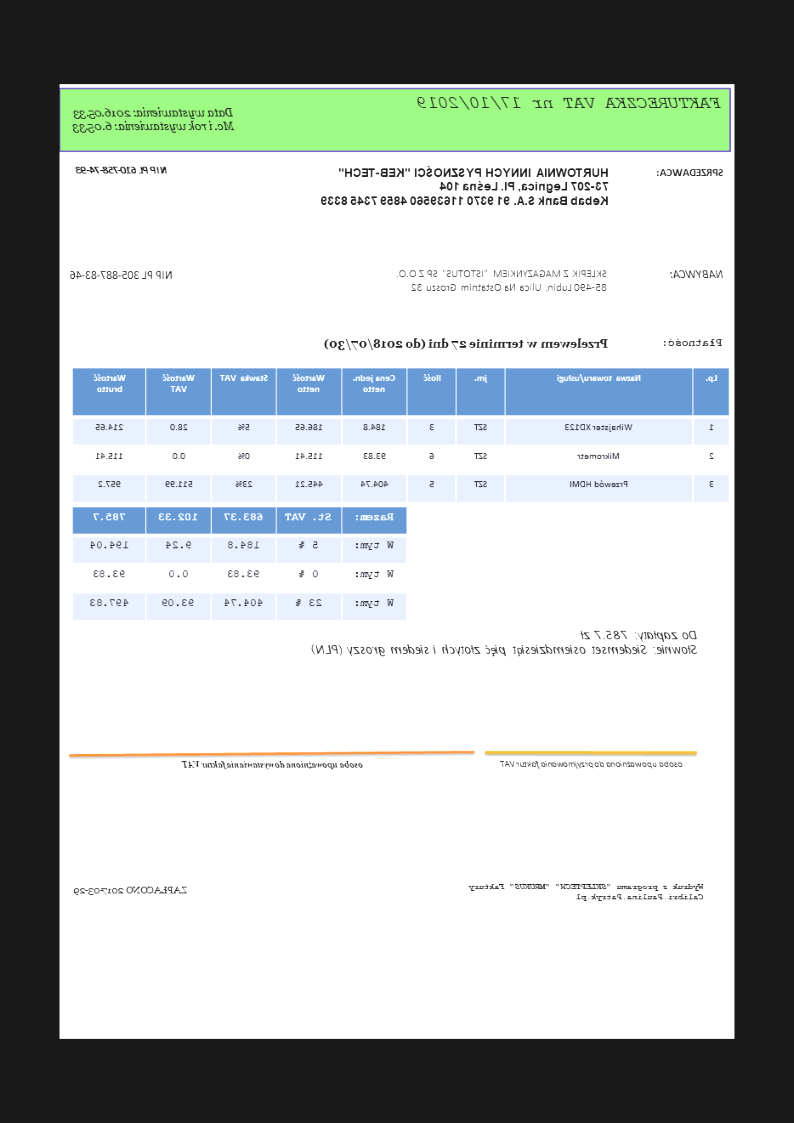Table: (71, 366, 731, 504), (71, 506, 409, 622)
TextBox: (318, 163, 611, 209), (309, 626, 700, 657), (394, 266, 610, 295), (416, 94, 723, 113), (466, 881, 706, 903), (71, 105, 237, 136), (324, 335, 610, 351), (497, 757, 684, 772), (180, 757, 366, 771), (73, 883, 190, 898), (68, 267, 176, 282), (73, 162, 169, 177), (655, 165, 726, 179), (661, 335, 725, 349), (669, 266, 725, 280)
